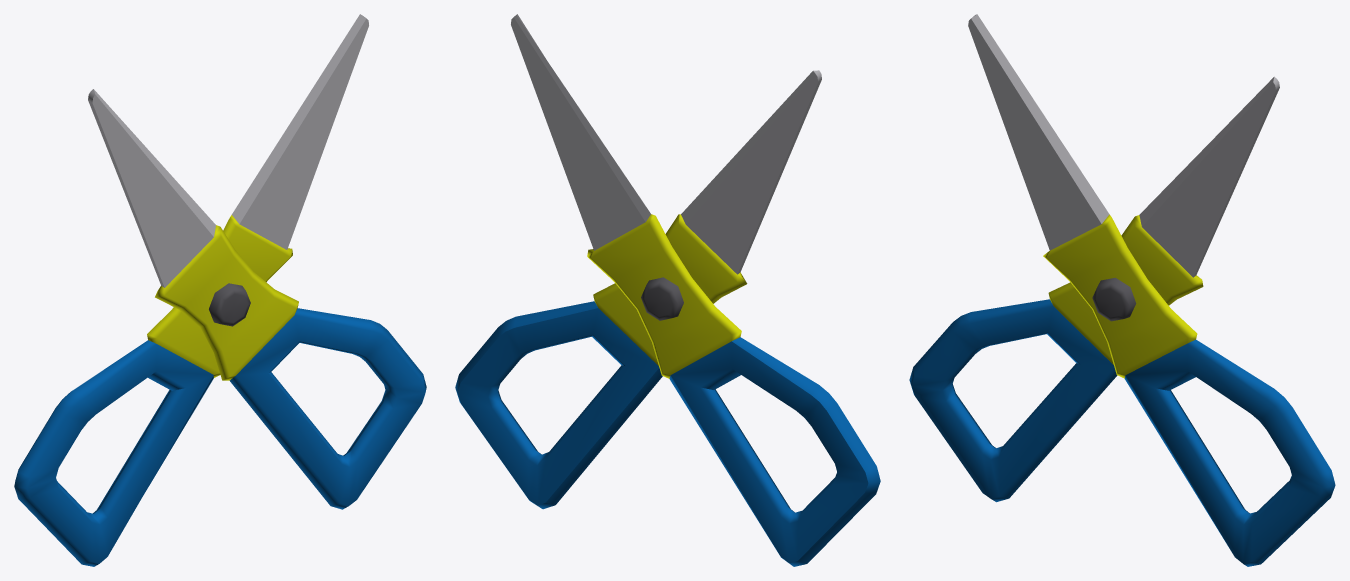
File: Scissors.fbx
3 views of the same model, side by side, from view 1: azimuth 30°, elevation 25°; view 2: azimuth 150°, elevation 25°; view 3: azimuth 330°, elevation 25° (orthographic).
Visible parts, largest first — view 1: Scissors; view 2: Scissors; view 3: Scissors.
Boxes of the visible parts, x1,y1,x2,y2 form: Scissors: (14,14,426,566); Scissors: (455,14,880,566); Scissors: (909,14,1335,566).
Size of the model in its own units: 29.01 by 2.84 by 32.62.
